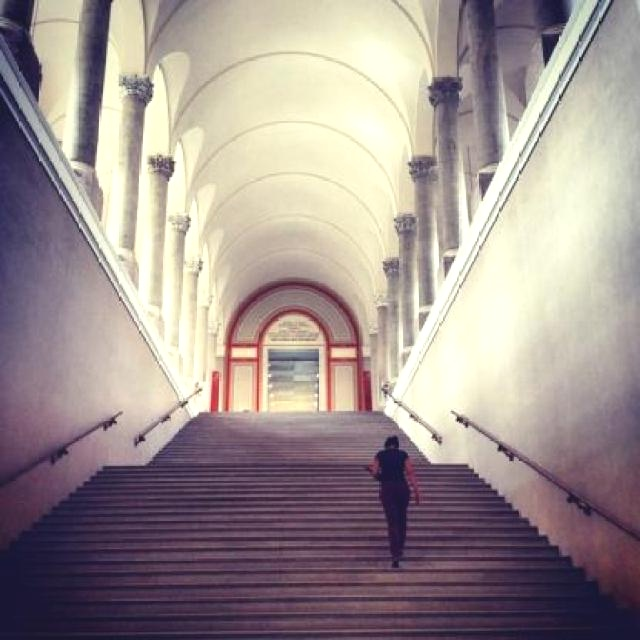stair: (2, 410, 640, 638)
